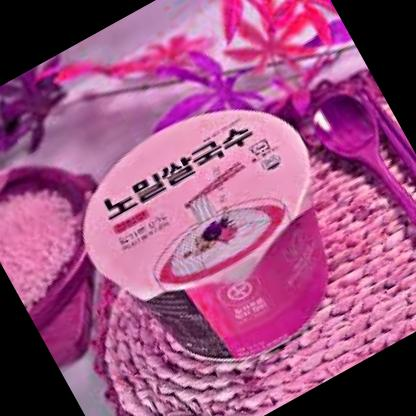Ramen: (51, 63, 386, 404)
